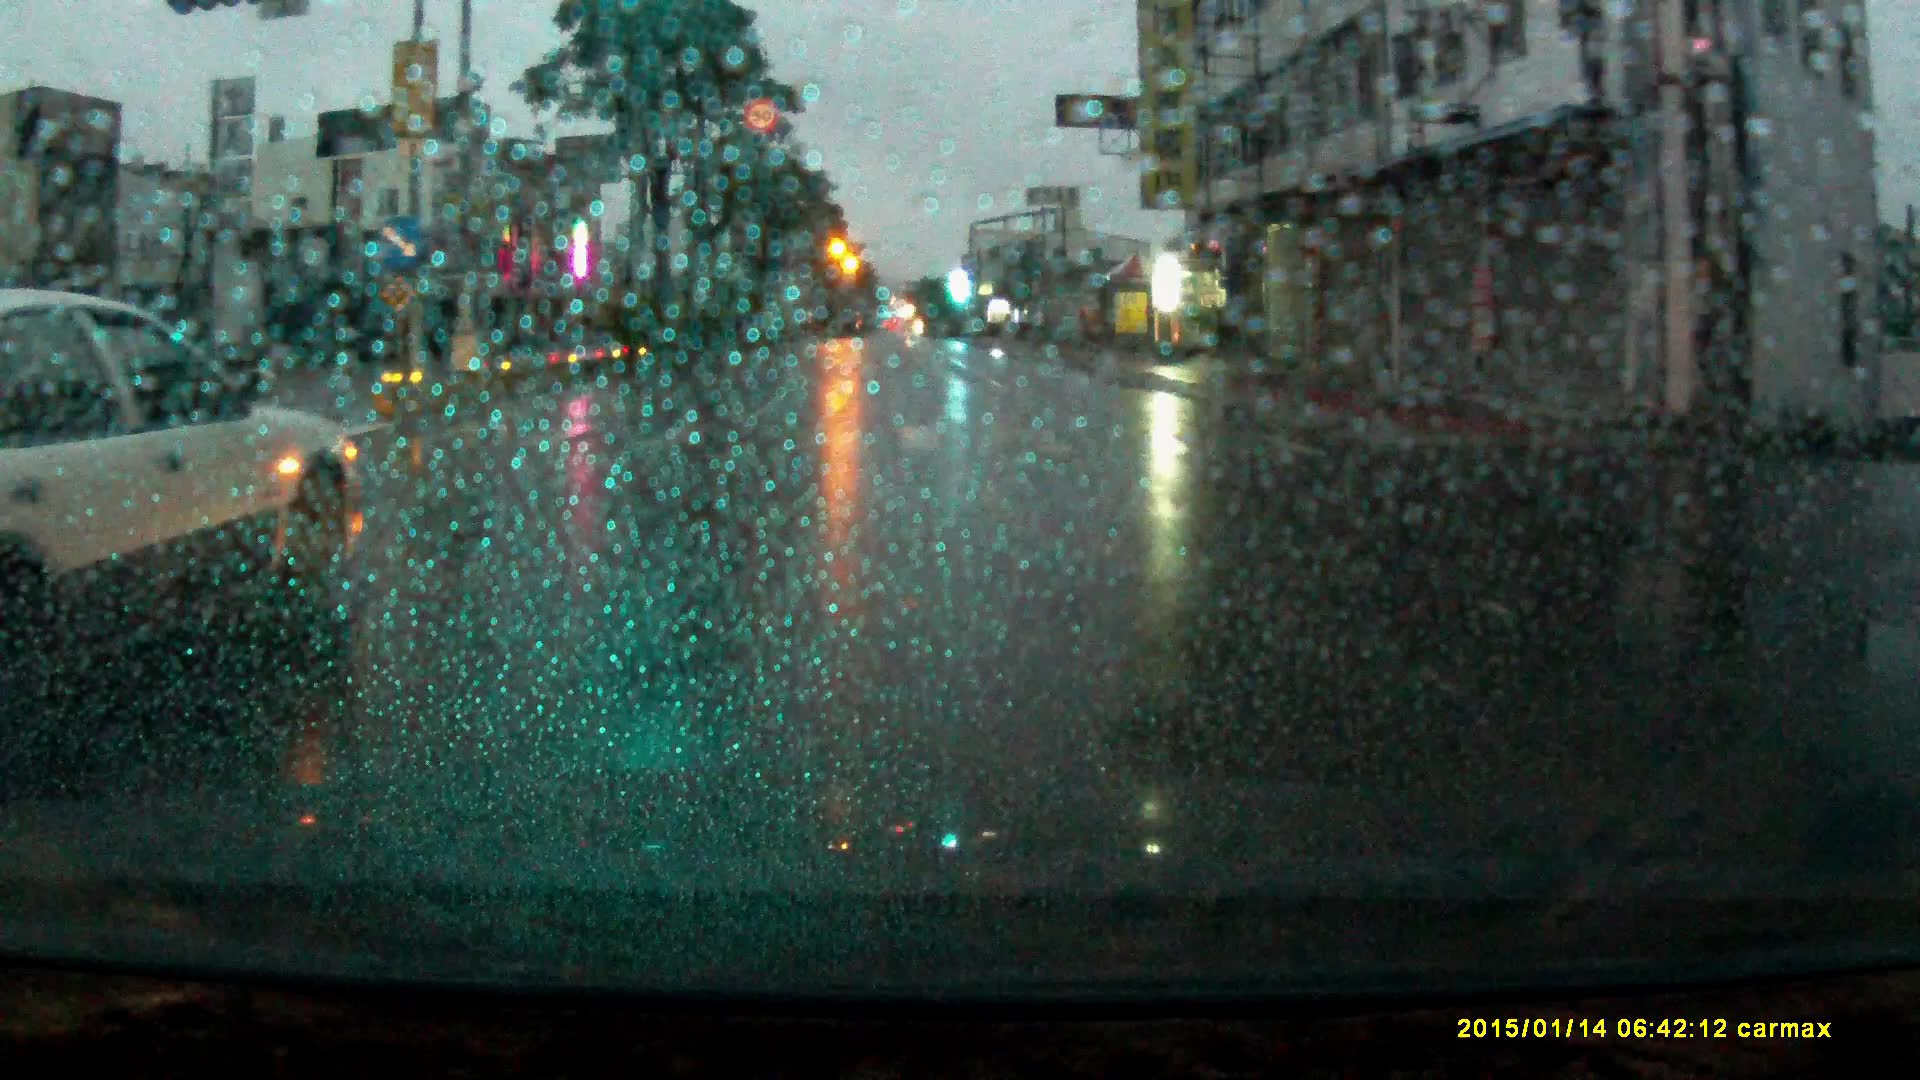vehicle: (1, 282, 369, 663)
